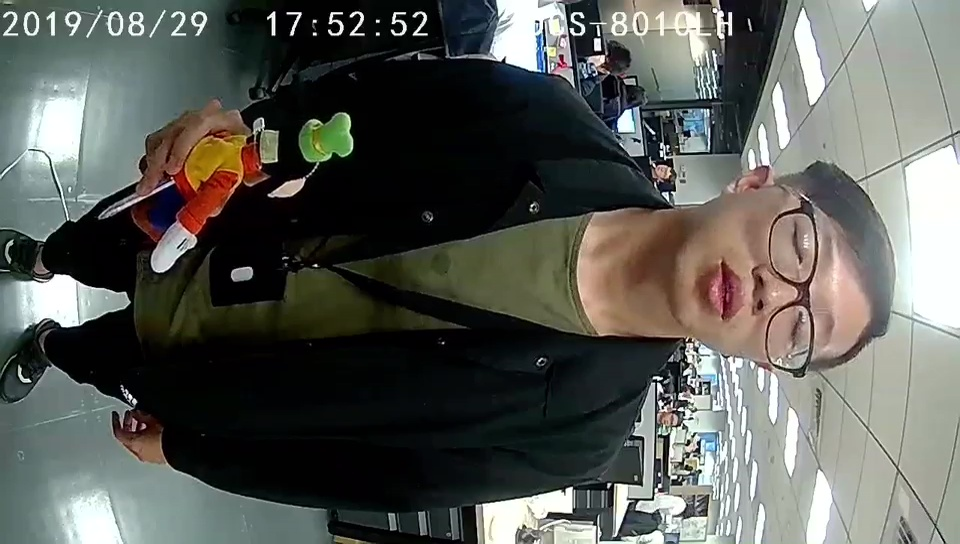goofy: (132, 110, 357, 276)
